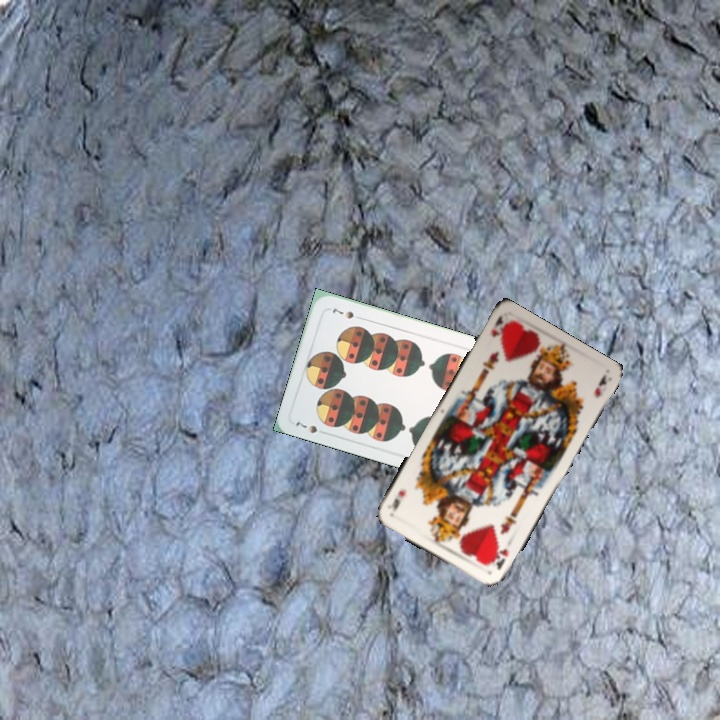HK: (488, 544, 511, 573), (487, 312, 509, 340)
S7: (291, 418, 320, 436)
